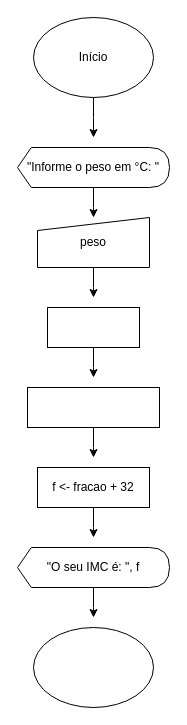
The diagram is 187 pixels wide and 725 high, and some of its shapes have lost their labels. The shapes that lost their labels are listed below. From the top down, each one's box as (x1, y1, x2, y2) in pixels, then its label:
(46, 306, 140, 348): valor <- c * 9
(26, 386, 160, 428): fracao <- valor / 5
(32, 626, 154, 708): FIM
